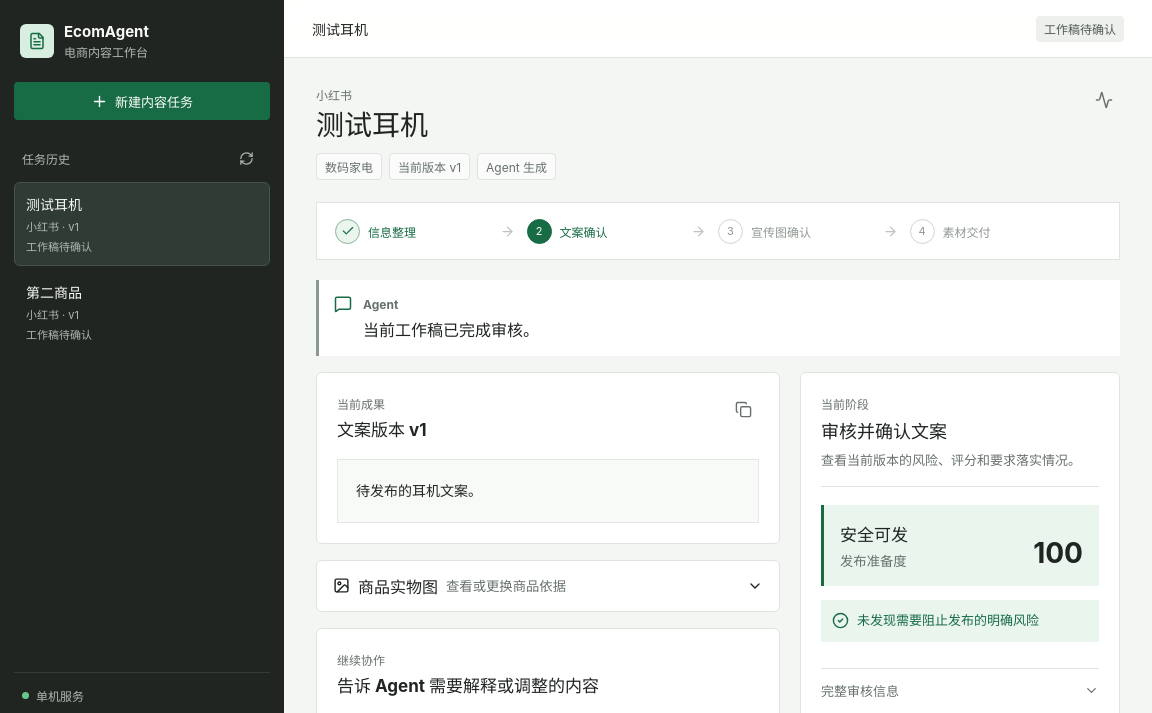
Test: release task workspace › switches between persisted tasks
Expected: the text "待发布的耳机文案。" is shown, [337,459,759,523]
Click the button "第二商品 小红书 · v1 工作稿待确认". click: [142, 312]
box: [15,271,269,353]
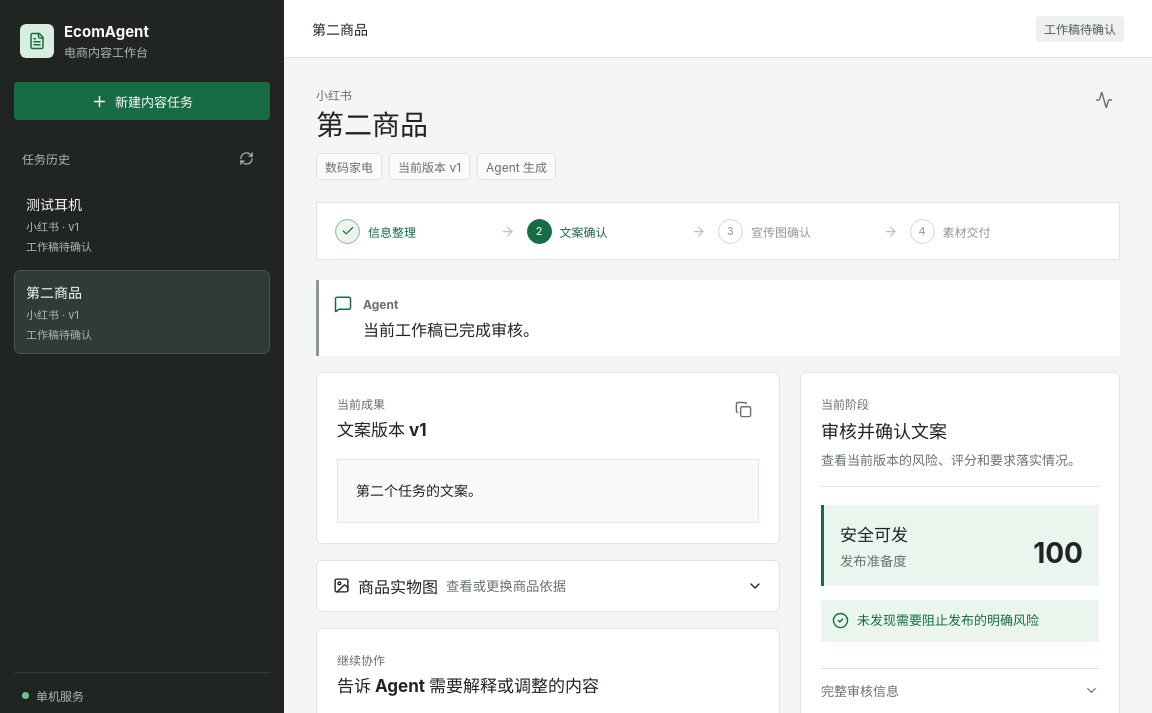
Result: the text "第二个任务的文案。" is shown at [337,459,759,523]
